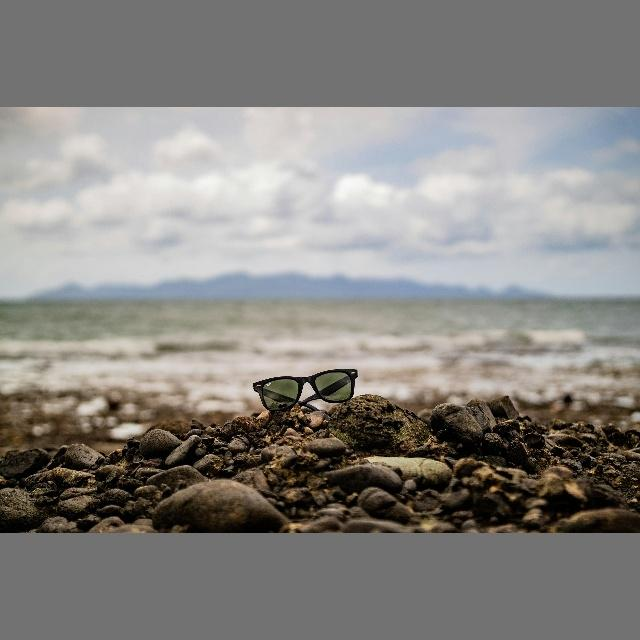Sunglasses: (245, 366, 367, 414)
